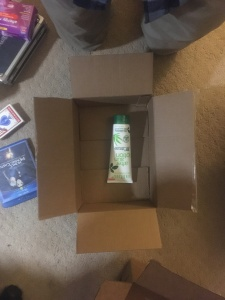innerbox: (74, 98, 157, 207)
outerbox: (35, 56, 198, 250)
product: (109, 113, 133, 185)
